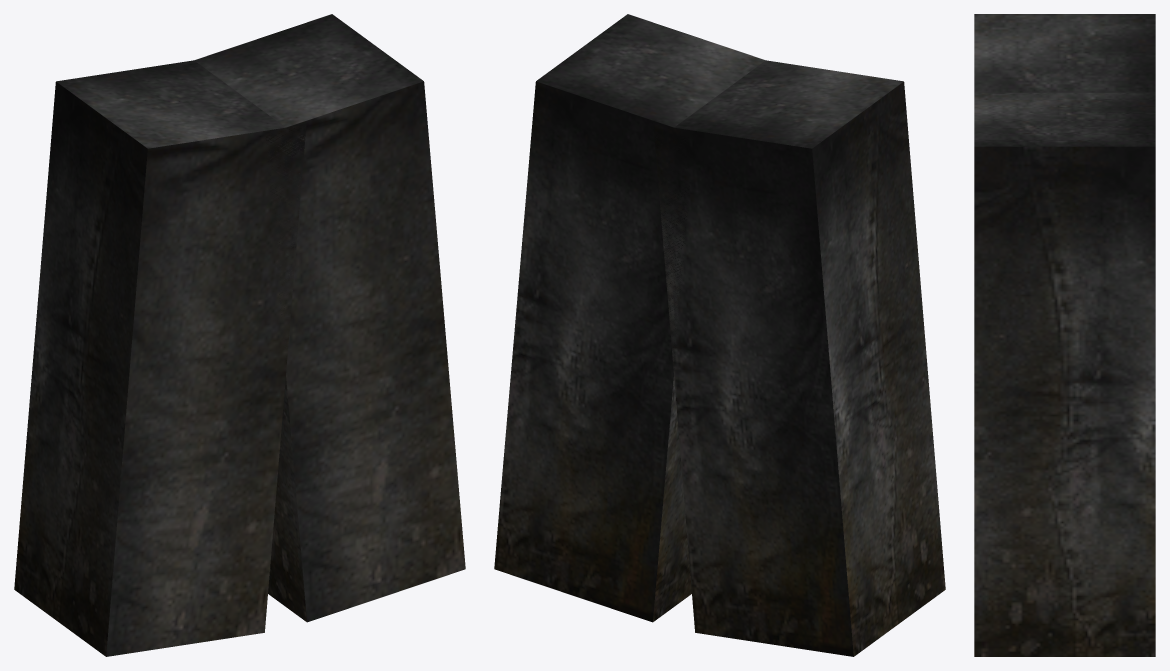
Rendered from arm_jacket_legs.obj.
3 views of the same model, side by side, from view 1: azimuth 30°, elevation 25°; view 2: azimuth 150°, elevation 25°; view 3: azimuth 270°, elevation 25° (orthographic).
Parts seen in each view (by area): view 1: arm_jacket_arm.001_Cube.002; view 2: arm_jacket_arm.001_Cube.002; view 3: arm_jacket_arm.001_Cube.002.
Part boxes in pixels (bbox=[...]): arm_jacket_arm.001_Cube.002: bbox=[14, 14, 465, 656]; arm_jacket_arm.001_Cube.002: bbox=[494, 14, 945, 656]; arm_jacket_arm.001_Cube.002: bbox=[974, 14, 1155, 656].
Bounding box in the file's own units: 2.26 × 3.08 × 1.
